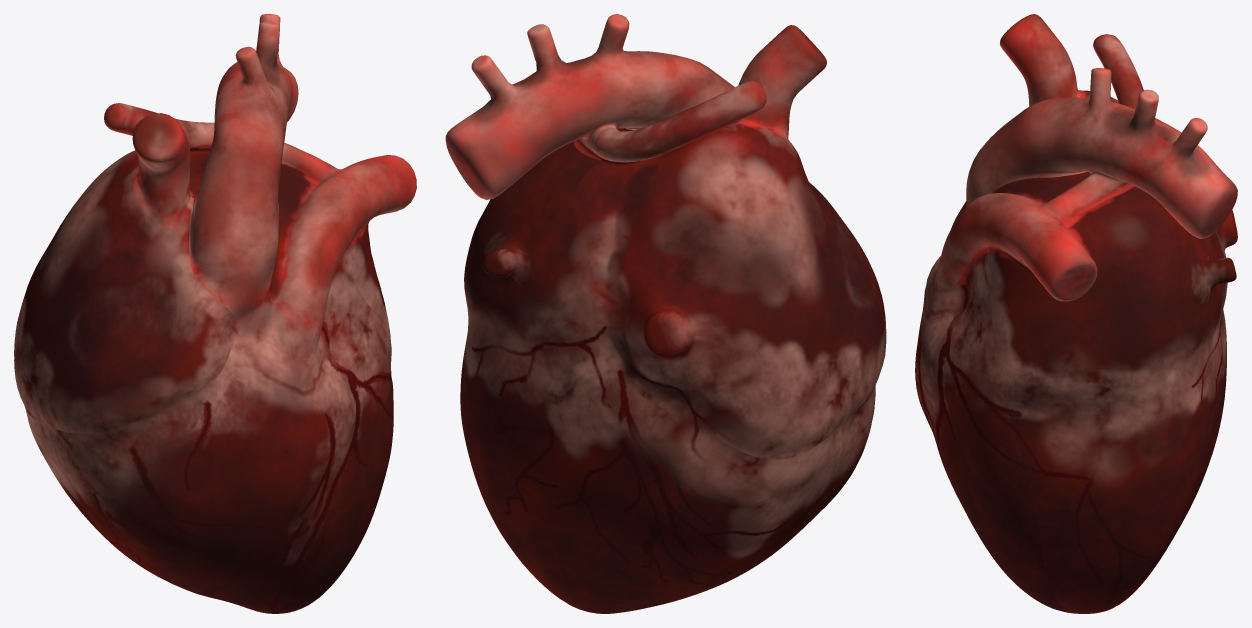
The model's file is heart.glb.
3 renders of one model, left to right at view 1: azimuth 30°, elevation 25°; view 2: azimuth 150°, elevation 25°; view 3: azimuth 270°, elevation 25°, orthographic. The views are drawn at different scales.
Visible parts, largest first — view 1: hart:ZBrush_defualt_group; view 2: hart:ZBrush_defualt_group; view 3: hart:ZBrush_defualt_group.
Part boxes in pixels (x1=…): hart:ZBrush_defualt_group: x1=14, y1=14, x2=416, y2=613; hart:ZBrush_defualt_group: x1=445, y1=14, x2=886, y2=613; hart:ZBrush_defualt_group: x1=915, y1=14, x2=1237, y2=613.
Bounding box in the file's own units: 1.08 × 1.6 × 0.8801.
Materials: 1 (1 with a texture image).
